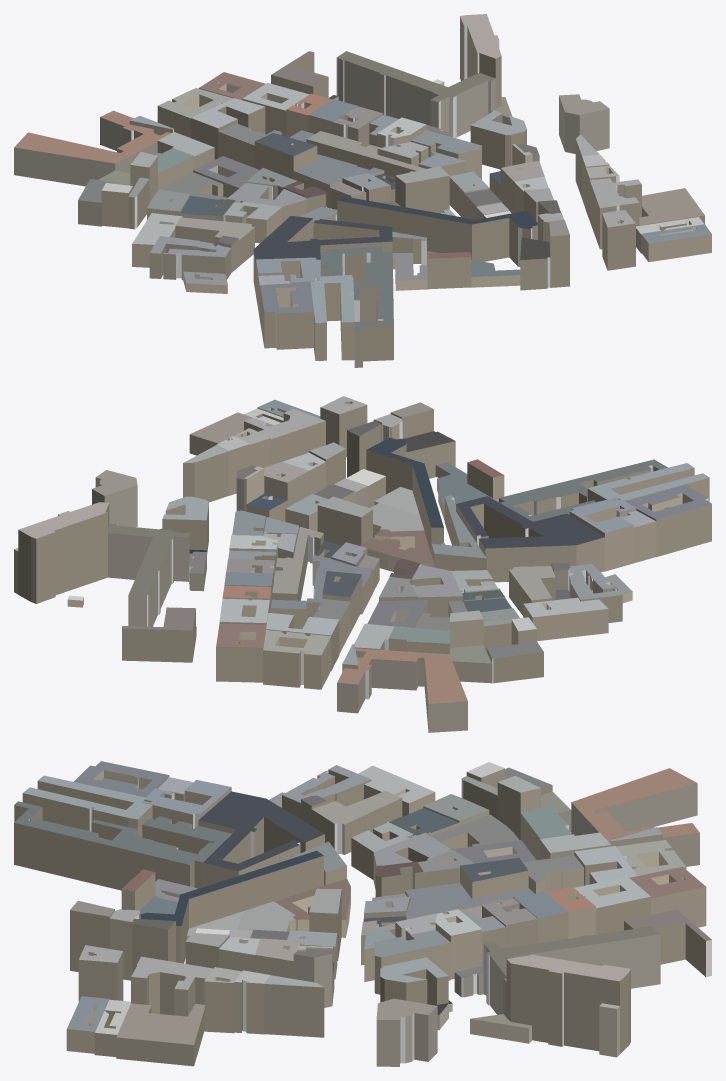
3 views of the same model, one above another, from view 1: azimuth 30°, elevation 25°; view 2: azimuth 150°, elevation 25°; view 3: azimuth 270°, elevation 25° (orthographic). The views are drawn at different scales.
Visible parts, largest first — view 1: tuile; view 2: tuile; view 3: tuile.
Part boxes in pixels (x1,y1,x2,y2): tuile: (14, 14, 711, 367); tuile: (14, 396, 711, 732); tuile: (14, 761, 711, 1066).
Bounding box in the file's own units: 274 × 39.31 × 295.
